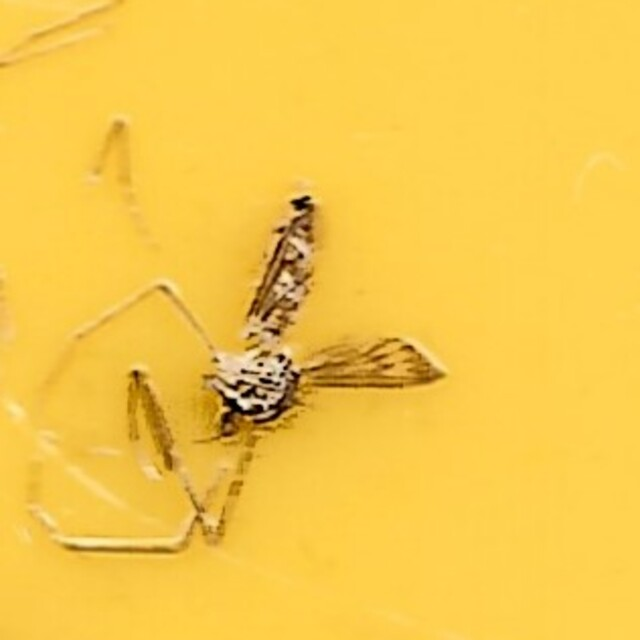Nematocera: (203, 190, 437, 450)
